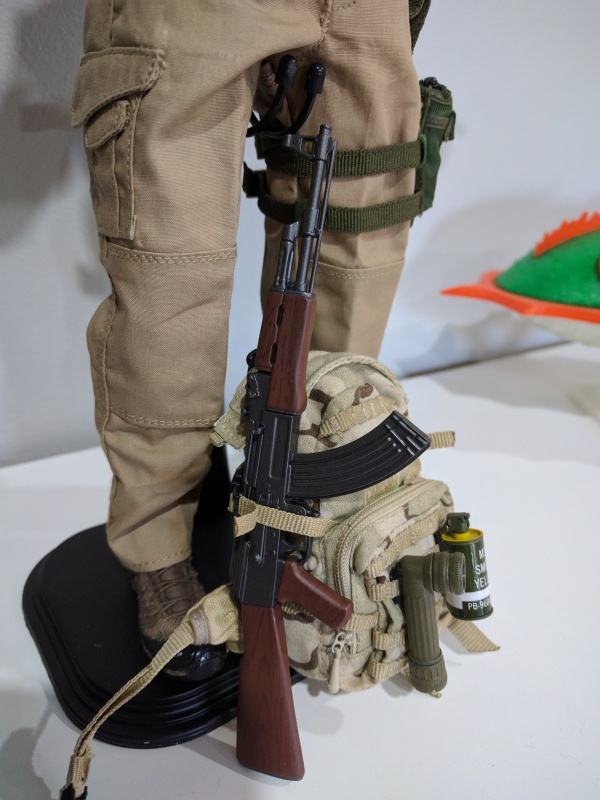ak47: (244, 126, 348, 778)
